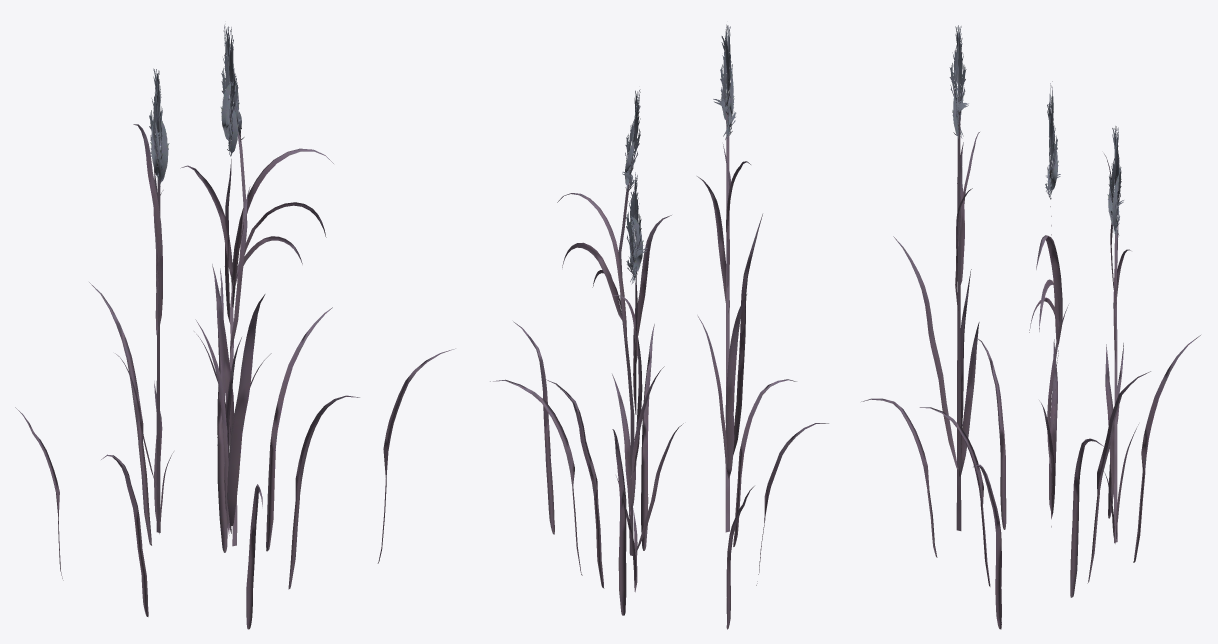
The picture shows the model from 3 angles, left to right: view 1: azimuth 30°, elevation 25°; view 2: azimuth 150°, elevation 25°; view 3: azimuth 270°, elevation 25°; orthographic projection. The views are drawn at different scales.
Visible parts, largest first — view 1: SM_FH_GrassLongSeeded_02_LOD0; view 2: SM_FH_GrassLongSeeded_02_LOD0; view 3: SM_FH_GrassLongSeeded_02_LOD0.
Boxes of the visible parts, box(x1,y1,x2,y2) form: SM_FH_GrassLongSeeded_02_LOD0: box(15, 25, 455, 629); SM_FH_GrassLongSeeded_02_LOD0: box(490, 24, 828, 629); SM_FH_GrassLongSeeded_02_LOD0: box(861, 25, 1200, 629).
Size of the model in its own units: 0.8527 by 1.38 by 0.7932.
Materials: 1 (1 with a texture image).
